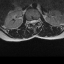CCS_normal: (32, 17, 34, 27)
LFS_normal: (37, 15, 39, 24)
LLS_normal: (34, 17, 37, 26)
RFS_normal: (28, 18, 30, 25)
RLS_normal: (30, 18, 32, 26)
